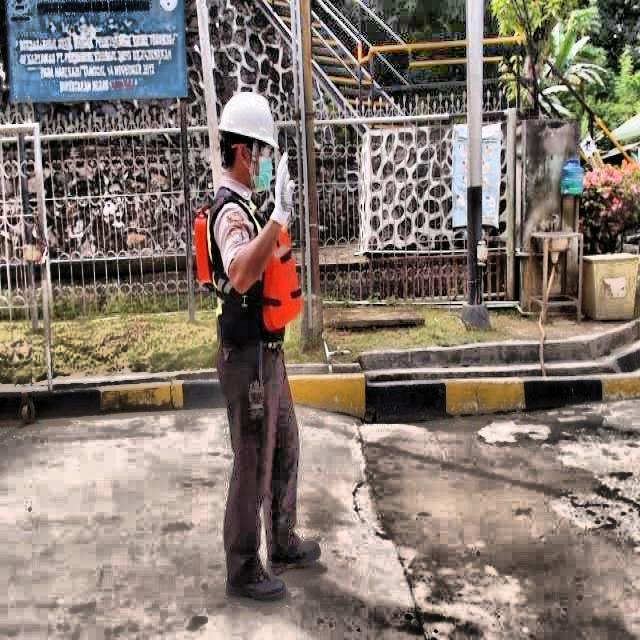safety_helmet: (212, 91, 280, 149)
safety_jacket: (196, 188, 303, 349)
